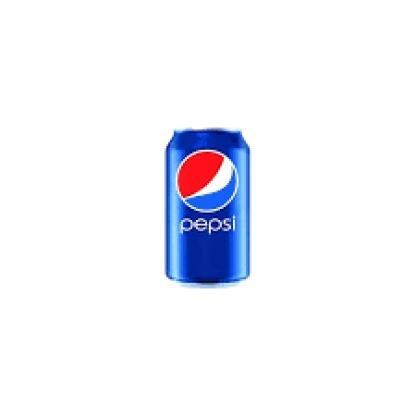trash: (166, 129, 249, 282)
